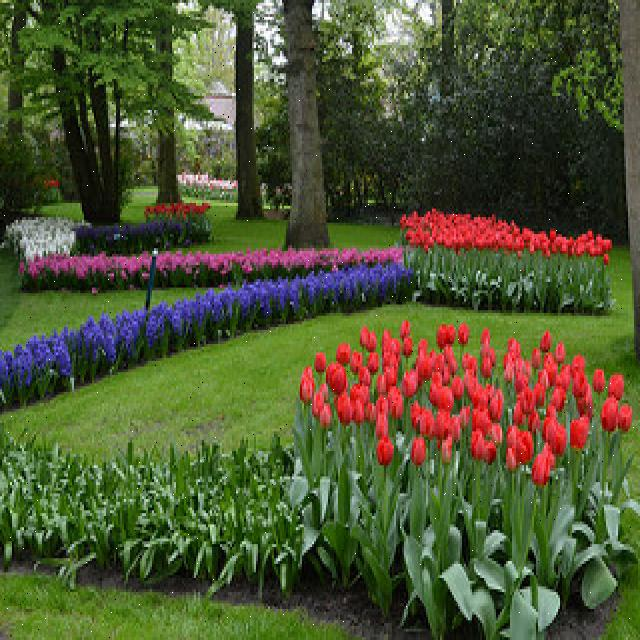Bloomed: (284, 318, 639, 471), (395, 199, 622, 276)
